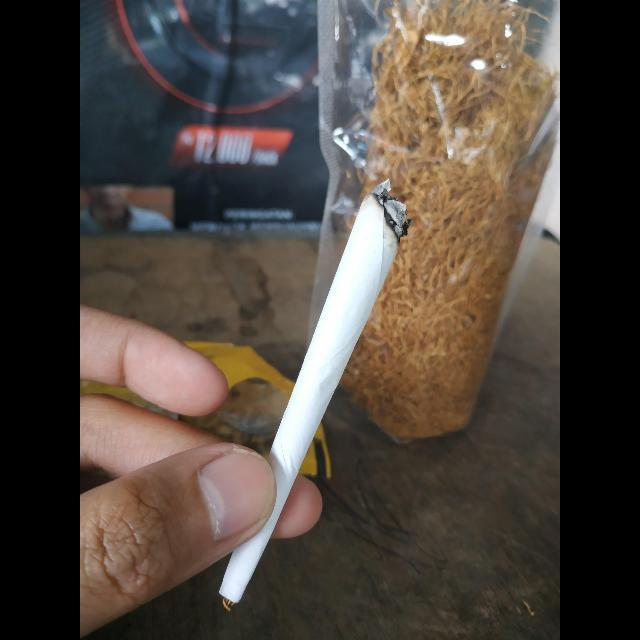rokok: (212, 180, 408, 614)
